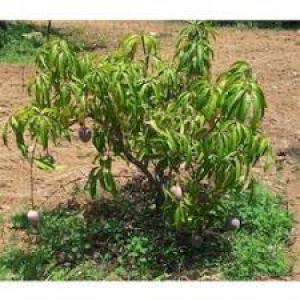Tree: (12, 19, 268, 237)
